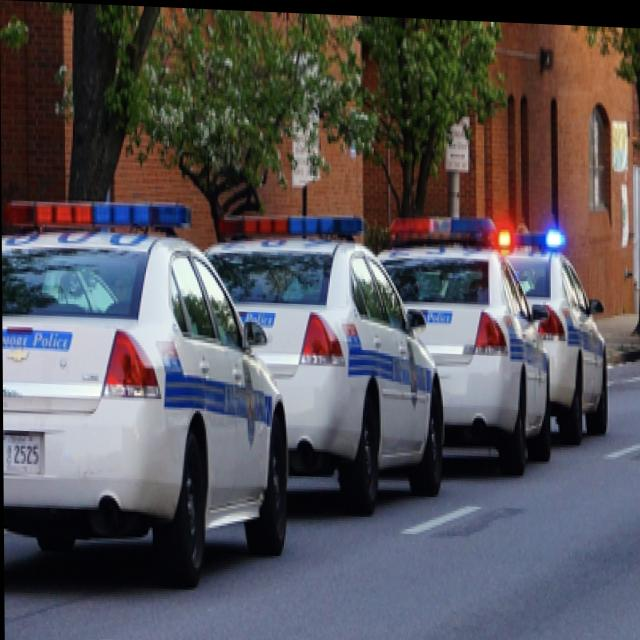licence: (3, 417, 45, 474)
